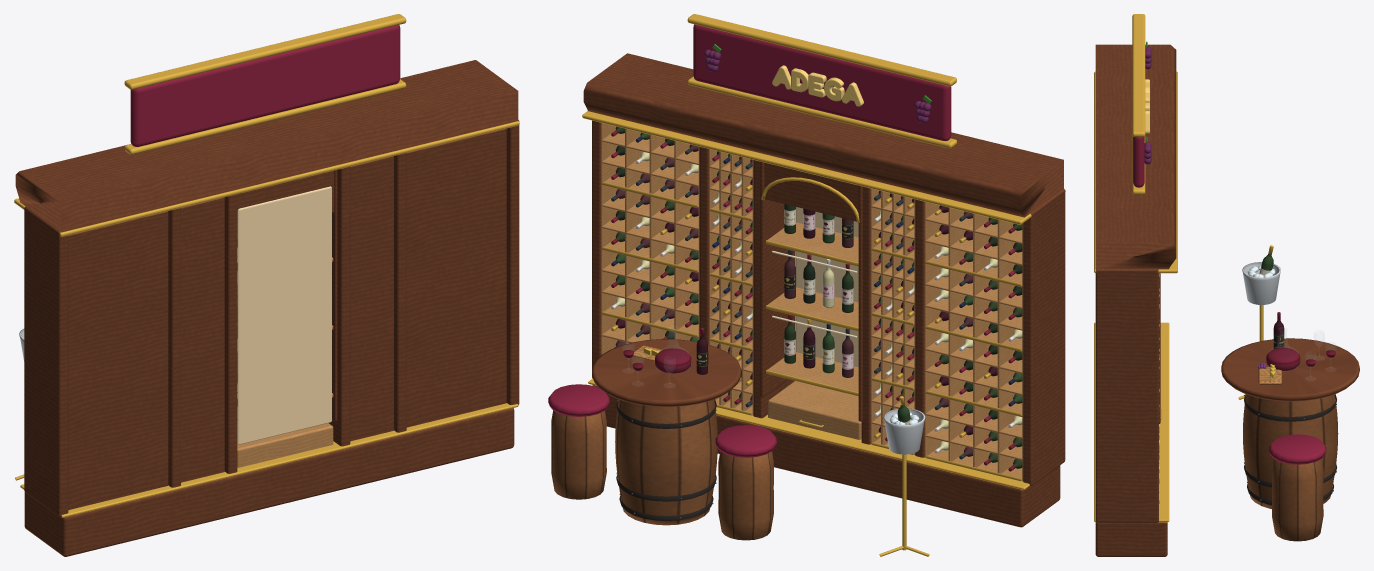
File: sector-adega.fbx
3 renders of one model, left to right at view 1: azimuth 30°, elevation 25°; view 2: azimuth 150°, elevation 25°; view 3: azimuth 270°, elevation 25°, orthographic. The views are drawn at different scales.
Visible parts, largest first — view 1: Body; view 2: Body, Anim Fill 3, Anim Fill 0, Anim Fill 1, Anim Fill 2; view 3: Body.
Boxes of the visible parts, x1,y1,x2,y2 form: Body: (14, 14, 519, 556); Body: (548, 14, 1065, 556); Anim Fill 3: (934, 205, 1022, 471); Anim Fill 0: (611, 126, 698, 348); Anim Fill 1: (712, 151, 752, 407); Anim Fill 2: (874, 190, 914, 441); Body: (1094, 14, 1359, 556).
Bounding box in the file's own units: 3.27 × 2.98 × 1.84.
